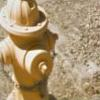Hydrant: (3, 0, 65, 99)
